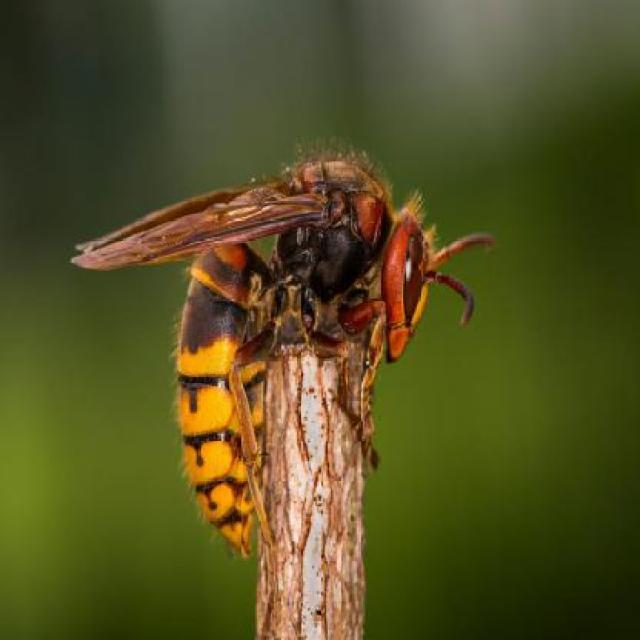Wasp: (66, 139, 498, 558)
